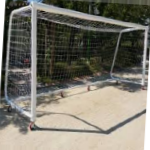goals: (4, 1, 148, 120)
